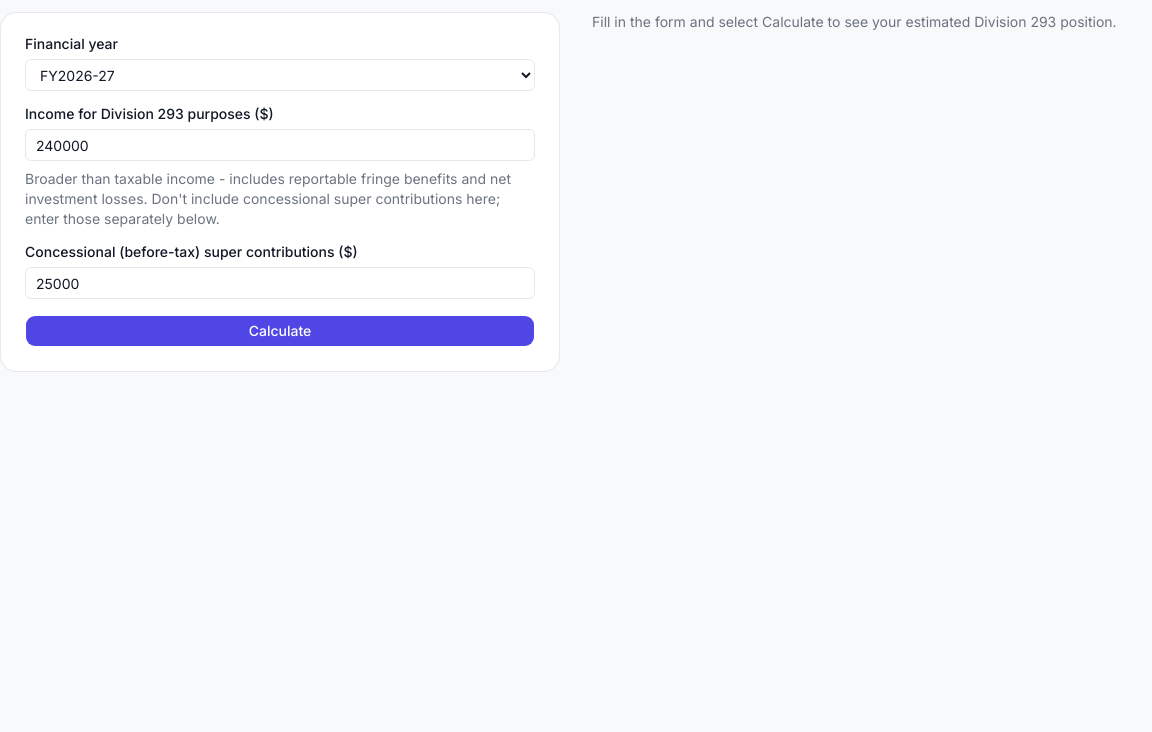
Scenario: Div293Calculator › integration: wires the form through the engine to a rendered breakdown, defaulting to FY2026-27
Click the button "Calculate".
click(280, 331)  # box left=25, top=315, right=535, bottom=347
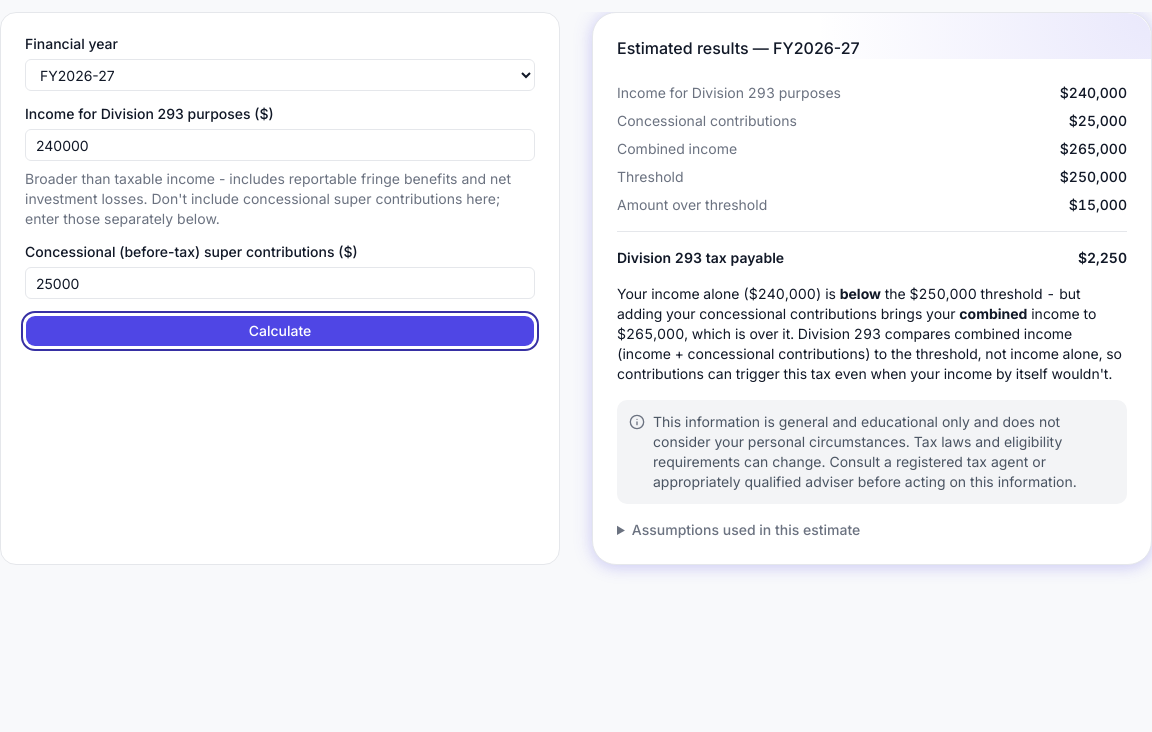
Check: the text "$2,250" is shown, box left=1078, top=249, right=1127, bottom=266
Check: the text "$265,000" is shown, box left=1060, top=140, right=1127, bottom=157
Check: the text "$15,000" is shown, box left=1069, top=196, right=1127, bottom=213
